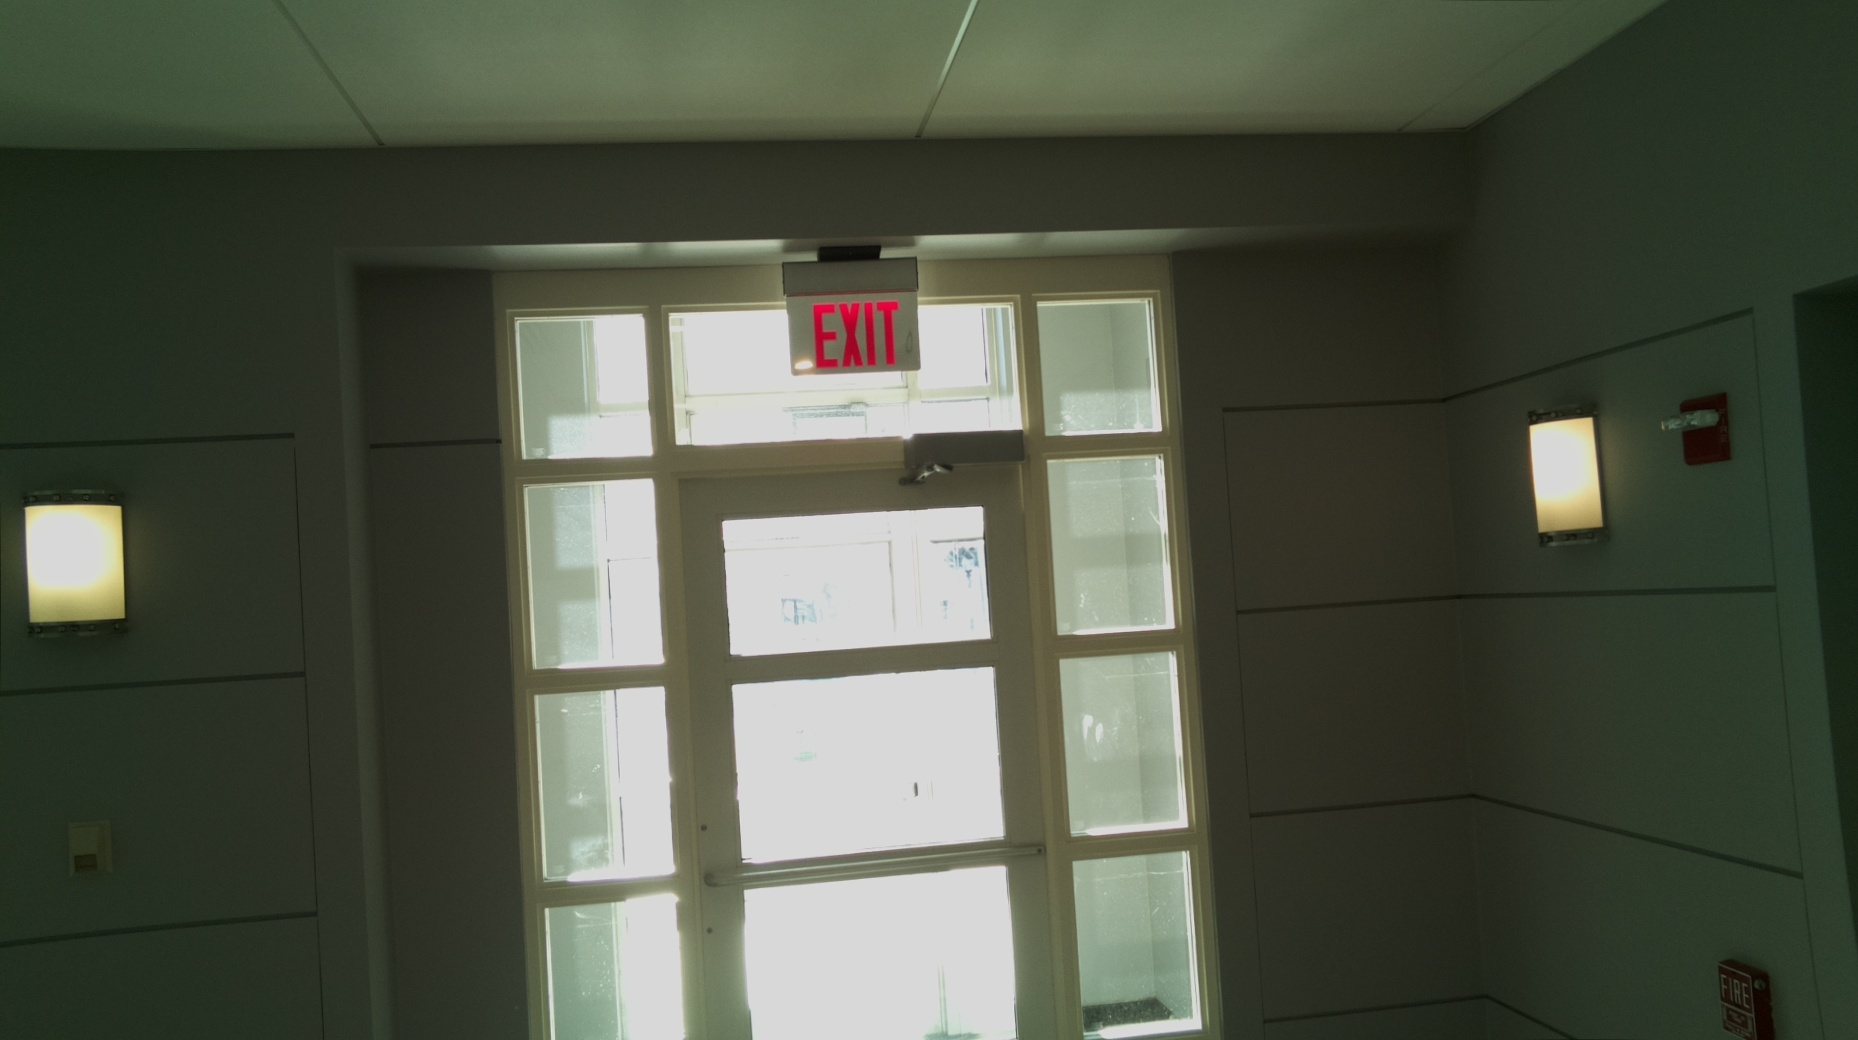exit sign: (780, 273, 930, 385)
